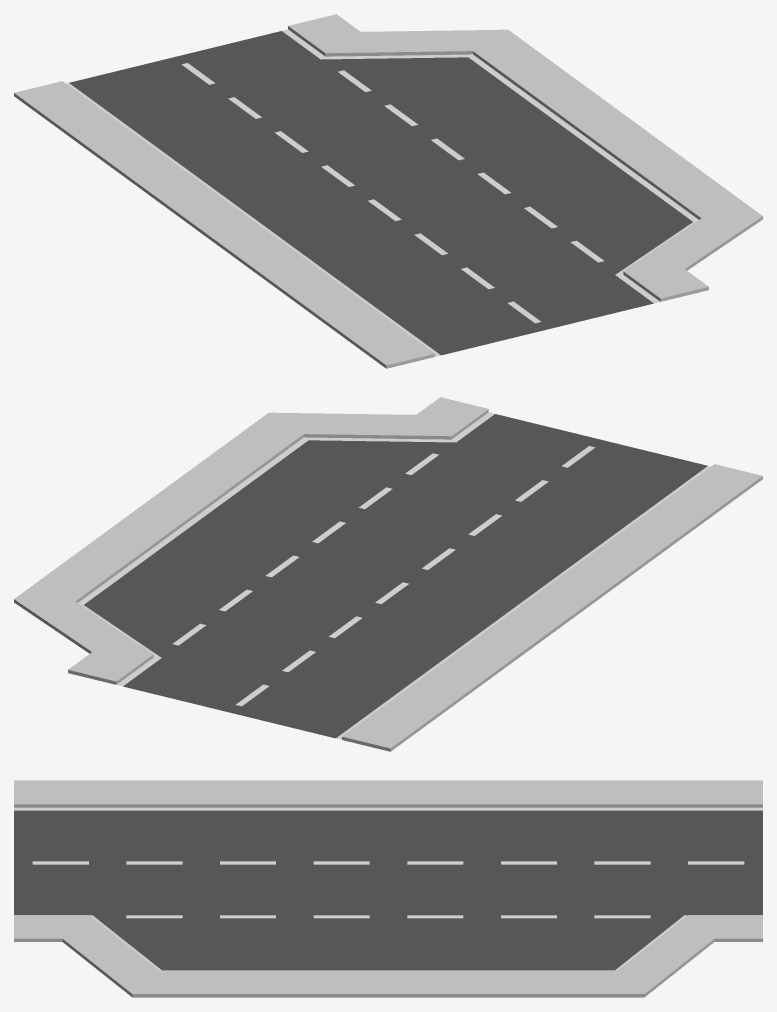
File: road-lane-bus-stop.glb
3 renders of one model, top to bottom at view 1: azimuth 30°, elevation 25°; view 2: azimuth 150°, elevation 25°; view 3: azimuth 270°, elevation 25°, orthographic.
Parts seen in each view (by area): view 1: model; view 2: model; view 3: model.
Boxes of the visible parts, x1,y1,x2,y2 form: model: (14,14,762,368); model: (14,397,762,751); model: (14,780,762,997).
Size of the model in its own units: 27 by 0.2 by 40.
Materials: 1 (1 with a texture image).
